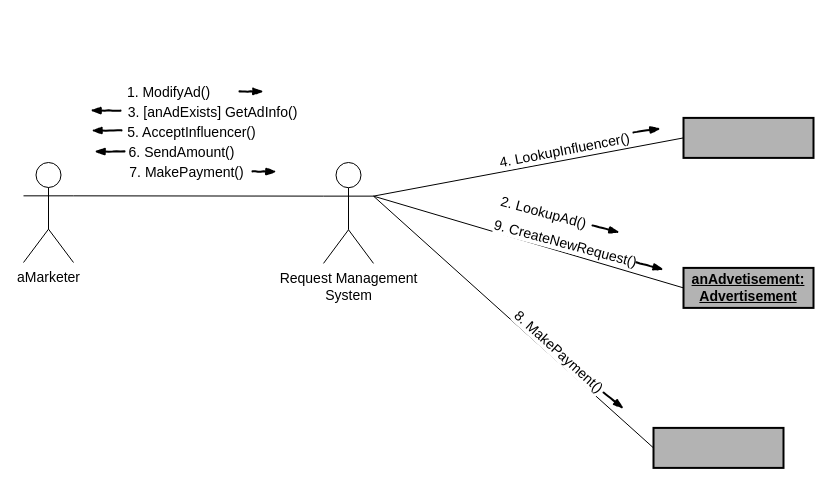
This 832x486 diagram has some shape labels left out. Here are the shapes that lost their labels. From the top down, the centre of each, then its label:
At (x=748, y=137): "anInfluencer: Influencer".
At (x=718, y=447): "aPayment: Payment".
